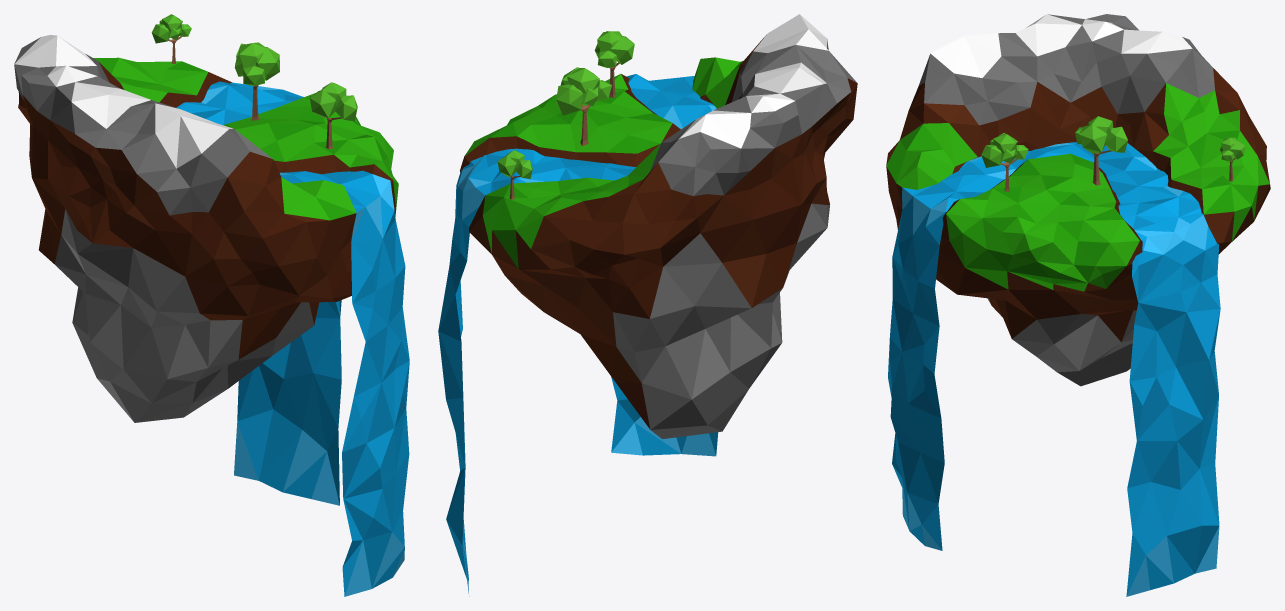
Rendered from island-1.glb.
The picture shows the model from 3 angles, left to right: view 1: azimuth 30°, elevation 25°; view 2: azimuth 150°, elevation 25°; view 3: azimuth 270°, elevation 25°; orthographic projection. The views are drawn at different scales.
Parts seen in each view (by area): view 1: Island, Water, tree2, tree1, tree3; view 2: Island, Water, tree2, tree1, tree3; view 3: Island, Water, tree2, tree1, tree3.
Boxes of the visible parts, x1,y1,x2,y2 form: Island: (14,35,398,422); Water: (176,81,409,596); tree2: (234,42,279,120); tree1: (309,82,357,149); tree3: (151,14,191,63); Island: (460,14,857,438); Water: (438,74,718,596); tree2: (556,67,611,146); tree1: (594,31,634,97); tree3: (497,150,532,199); Island: (886,14,1270,386); Water: (888,142,1220,596); tree2: (1075,116,1127,185); tree1: (981,133,1028,191); tree3: (1220,137,1245,181).
Bounding box in the file's own units: 3.38 × 5.07 × 3.89.
3 materials, 3 textured.
